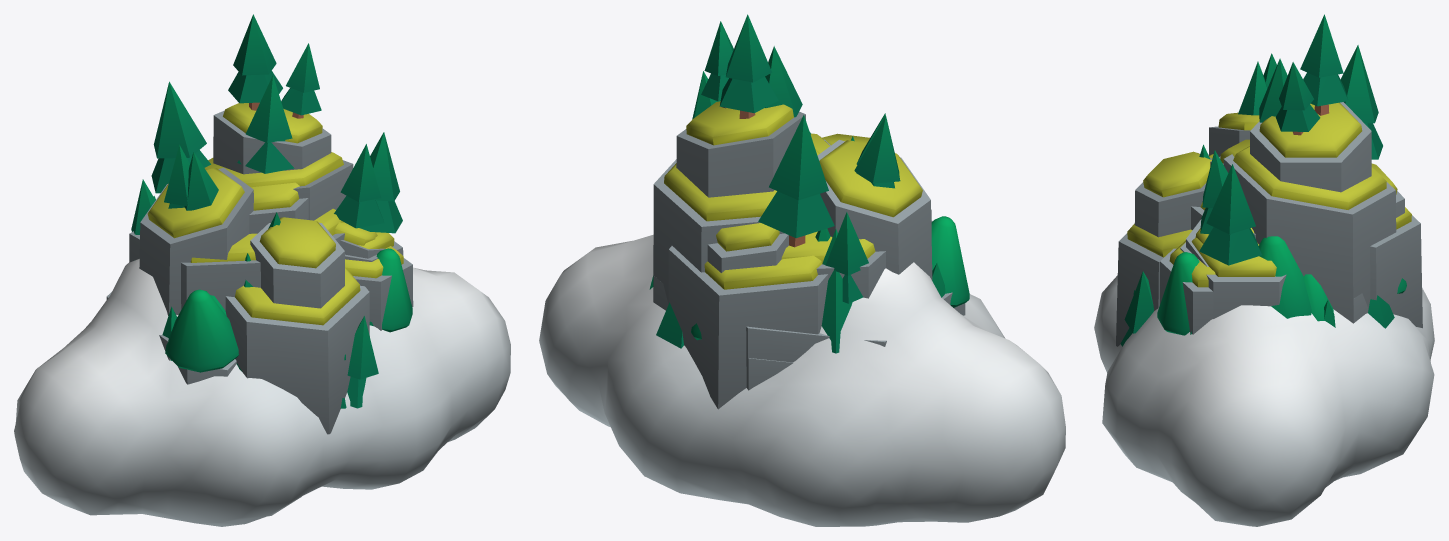
Rendered from p_hex.glb.
The picture shows the model from 3 angles, left to right: view 1: azimuth 30°, elevation 25°; view 2: azimuth 150°, elevation 25°; view 3: azimuth 270°, elevation 25°; orthographic projection. The views are drawn at different scales.
Parts seen in each view (by area): view 1: cloud_big, mountain_C_grass, mountain_B_grass_trees, mountain_A_grass_trees, trees_B_large, trees_A_large; view 2: cloud_big, mountain_C_grass, mountain_B_grass_trees, mountain_A_grass_trees, trees_B_large, hills_C_trees, trees_A_large; view 3: cloud_big, mountain_B_grass_trees, mountain_C_grass, mountain_A_grass_trees, trees_B_large, trees_B_medium, trees_A_large.
Part boxes in pixels (x1,y1,x2,y2): cloud_big: (14, 259, 510, 526); mountain_C_grass: (139, 167, 385, 434); mountain_B_grass_trees: (106, 14, 403, 360); mountain_A_grass_trees: (129, 75, 413, 330); trees_B_large: (165, 248, 412, 372); trees_A_large: (162, 306, 378, 408); cloud_big: (539, 234, 1065, 526); mountain_C_grass: (668, 133, 965, 409); mountain_B_grass_trees: (653, 14, 954, 389); mountain_A_grass_trees: (654, 46, 931, 390); trees_B_large: (931, 216, 969, 307); hills_C_trees: (821, 229, 852, 353); trees_A_large: (649, 263, 945, 348); cloud_big: (1094, 275, 1434, 526); mountain_B_grass_trees: (1180, 14, 1396, 323); mountain_C_grass: (1116, 112, 1422, 346); mountain_A_grass_trees: (1160, 45, 1382, 334); trees_B_large: (1133, 252, 1333, 335); trees_B_medium: (1259, 236, 1406, 318); trees_A_large: (1120, 271, 1394, 346).
Bounding box in the file's own units: 3.61 × 3.41 × 2.24.
Materials: 1 (1 with a texture image).
